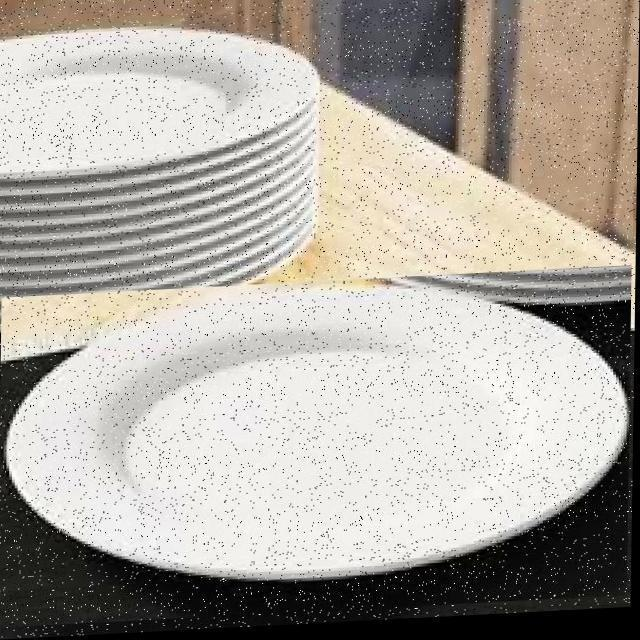plate: (0, 272, 632, 628)
